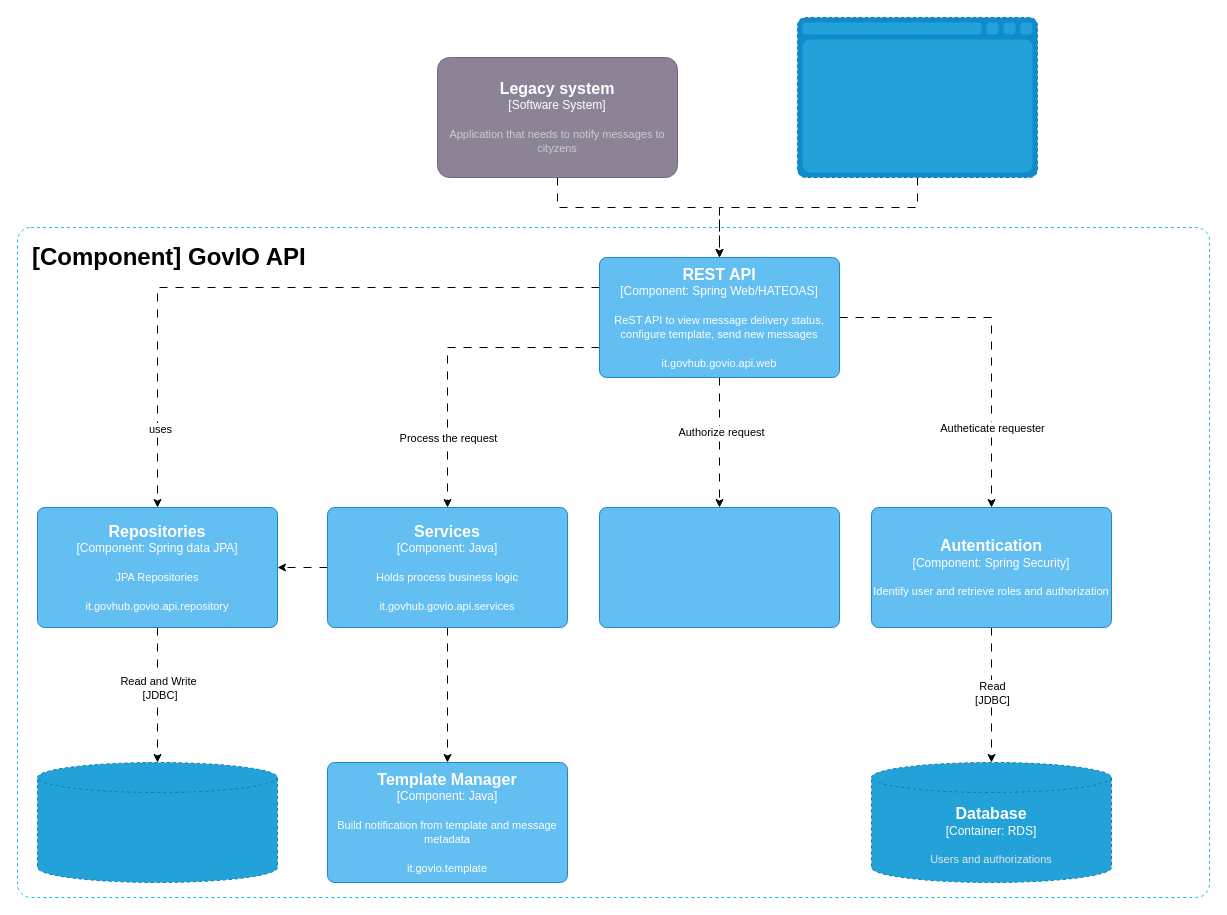
This 1227x915 diagram has some shape labels left out. Each missing label, with the centre of its shape:
Authorization [Component: Java] Authorize the request: point (719, 567)
Backoffice [Container: Angular] Monitor e configuration console: point (917, 97)
Database [Container: RDS] Receipt, notification: point (157, 822)
